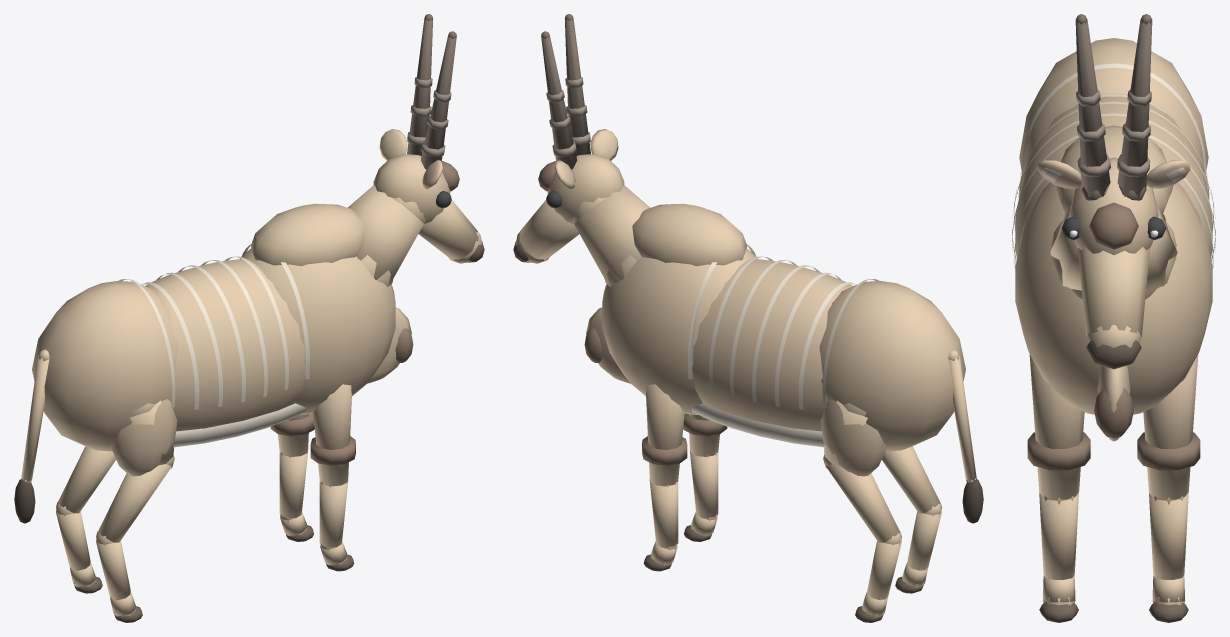
Rendered from common-eland.glb.
The picture shows the model from 3 angles, left to right: view 1: azimuth 30°, elevation 25°; view 2: azimuth 150°, elevation 25°; view 3: azimuth 270°, elevation 25°; orthographic projection. The views are drawn at different scales.
Parts seen in each view (by area): view 1: band, e.043, e.012, e.005, e.029, e.022, e.060; view 2: band, e.043, e.029, e.022, e.012, e.005, e.060; view 3: band, e.043, e.022, e.005.
Part boxes in pixels (bbox=[...]): band: bbox=[32, 185, 425, 451]; e.043: bbox=[373, 14, 484, 263]; e.012: bbox=[96, 399, 177, 622]; e.005: bbox=[310, 384, 355, 571]; e.029: bbox=[56, 446, 116, 593]; e.022: bbox=[270, 413, 314, 541]; e.060: bbox=[14, 349, 49, 523]; band: bbox=[572, 185, 965, 451]; e.043: bbox=[513, 14, 624, 263]; e.029: bbox=[820, 399, 901, 622]; e.022: bbox=[642, 384, 687, 571]; e.012: bbox=[881, 446, 941, 593]; e.005: bbox=[683, 413, 727, 541]; e.060: bbox=[948, 349, 983, 523]; band: bbox=[1012, 38, 1215, 441]; e.043: bbox=[1037, 14, 1190, 369]; e.022: bbox=[1137, 354, 1200, 622]; e.005: bbox=[1027, 354, 1090, 622].
Bounding box in the file's own units: 1.47 × 1.52 × 0.4088.
